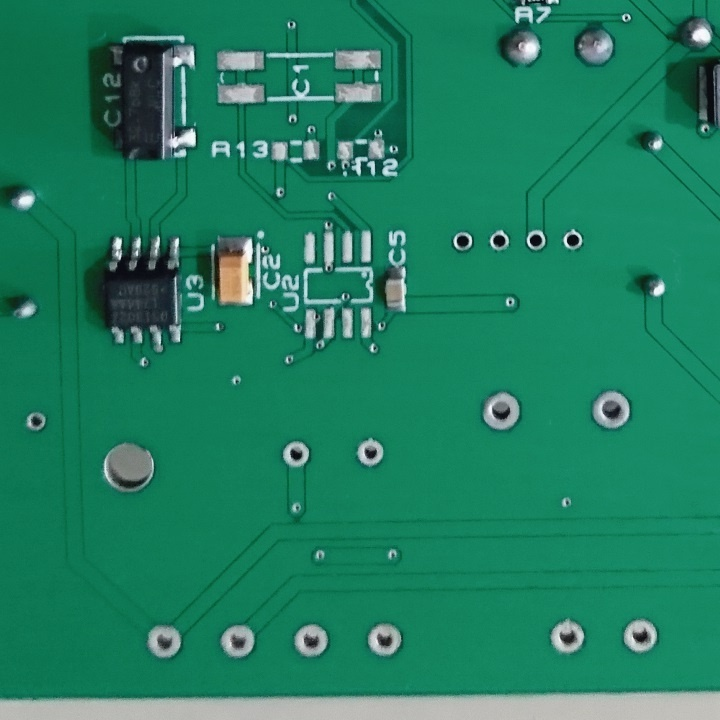F: (476, 386, 525, 435), (587, 386, 634, 432), (545, 615, 587, 660), (365, 618, 407, 662), (619, 617, 665, 655), (219, 620, 259, 662), (292, 620, 331, 663), (145, 623, 185, 663), (355, 435, 388, 471), (279, 439, 316, 471), (523, 227, 547, 254), (450, 229, 475, 254), (487, 229, 513, 253), (560, 226, 584, 252), (25, 409, 49, 433)
